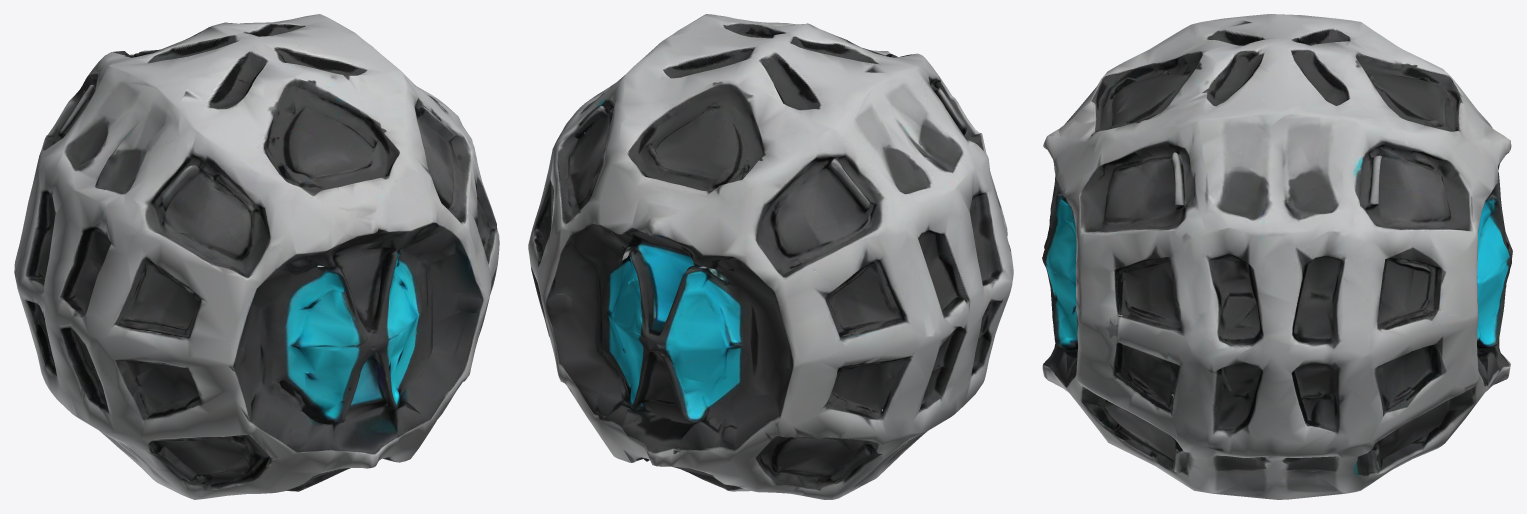
Rendered from apex-reliquia-nucleo.glb.
3 views of the same model, side by side, from view 1: azimuth 30°, elevation 25°; view 2: azimuth 150°, elevation 25°; view 3: azimuth 270°, elevation 25° (orthographic).
Bounding box in the file's own units: 2 × 2 × 2.
Materials: 1 (1 with a texture image).
